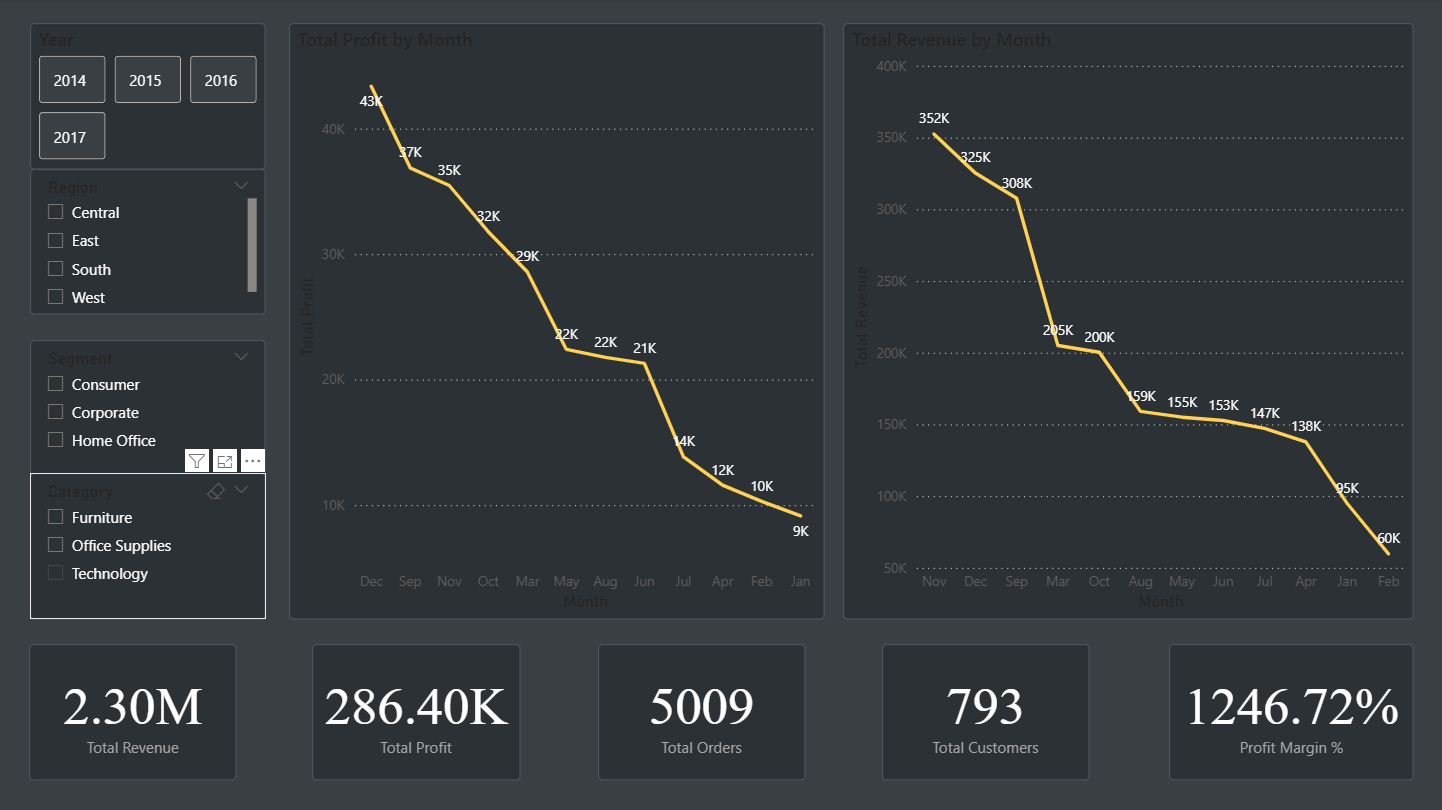

What the dashboard file says about the page in this screenshot:
{"tool":"powerbi","page":{"name":"Executive Summary","canvas":[1280,720],"ordinal":0},"visuals":[{"type":"card","fields":{"Values":["Date_Table.Total Revenue"]},"box":[26,572,184,121],"z":0},{"type":"card","fields":{"Values":["Date_Table.Total Profit"]},"box":[276.4,571.8,184.5,120.9],"z":1000},{"type":"card","fields":{"Values":["Date_Table.Total Orders"]},"box":[530,571.8,183.6,120.9],"z":2000},{"type":"card","fields":{"Values":["Date_Table.Total Customers"]},"box":[781.8,571.8,183.6,120.9],"z":3000},{"type":"lineChart","fields":{"Category":["Date_Table.Month"],"Y":["Date_Table.Total Revenue"]},"box":[747.3,20.9,506.4,529.1],"z":4000},{"type":"lineChart","fields":{"Y":["Date_Table.Total Profit"],"Category":["Date_Table.Month"]},"box":[256.4,20.9,475.5,529.1],"z":5000},{"type":"card","fields":{"Values":["Date_Table.Profit Margin %"]},"box":[1036.4,571.8,217.3,120.9],"z":6000},{"type":"slicer","fields":{"Values":["Orders.Segment"]},"box":[26.4,302.7,209.1,130],"z":6001},{"type":"slicer","fields":{"Values":["Orders.Region"]},"box":[26.4,150.9,209.1,129.1],"z":6002},{"type":"slicer","fields":{"Values":["Orders.Category"]},"box":[26.4,420,209.1,130],"z":6003},{"type":"advancedSlicerVisual","fields":{"Values":["Date_Table.Year"]},"box":[26.4,20.9,209.1,130],"z":6004}]}

Visuals, with their boxes in screenshot pixels (x1, y1, x2, y2), scaled from the page's 1280x720 canvas onto the 1442x810 screenshot:
card - Date_Table.Total Revenue: 29,644,237,780
card - Date_Table.Total Profit: 311,643,519,779
card - Date_Table.Total Orders: 597,643,804,779
card - Date_Table.Total Customers: 881,643,1088,779
lineChart - Date_Table.Month x Date_Table.Total Revenue: 842,24,1412,619
lineChart - Date_Table.Total Profit x Date_Table.Month: 289,24,825,619
card - Date_Table.Profit Margin %: 1168,643,1412,779
slicer - Orders.Segment: 30,341,265,487
slicer - Orders.Region: 30,170,265,315
slicer - Orders.Category: 30,472,265,619
advancedSlicerVisual - Date_Table.Year: 30,24,265,170
